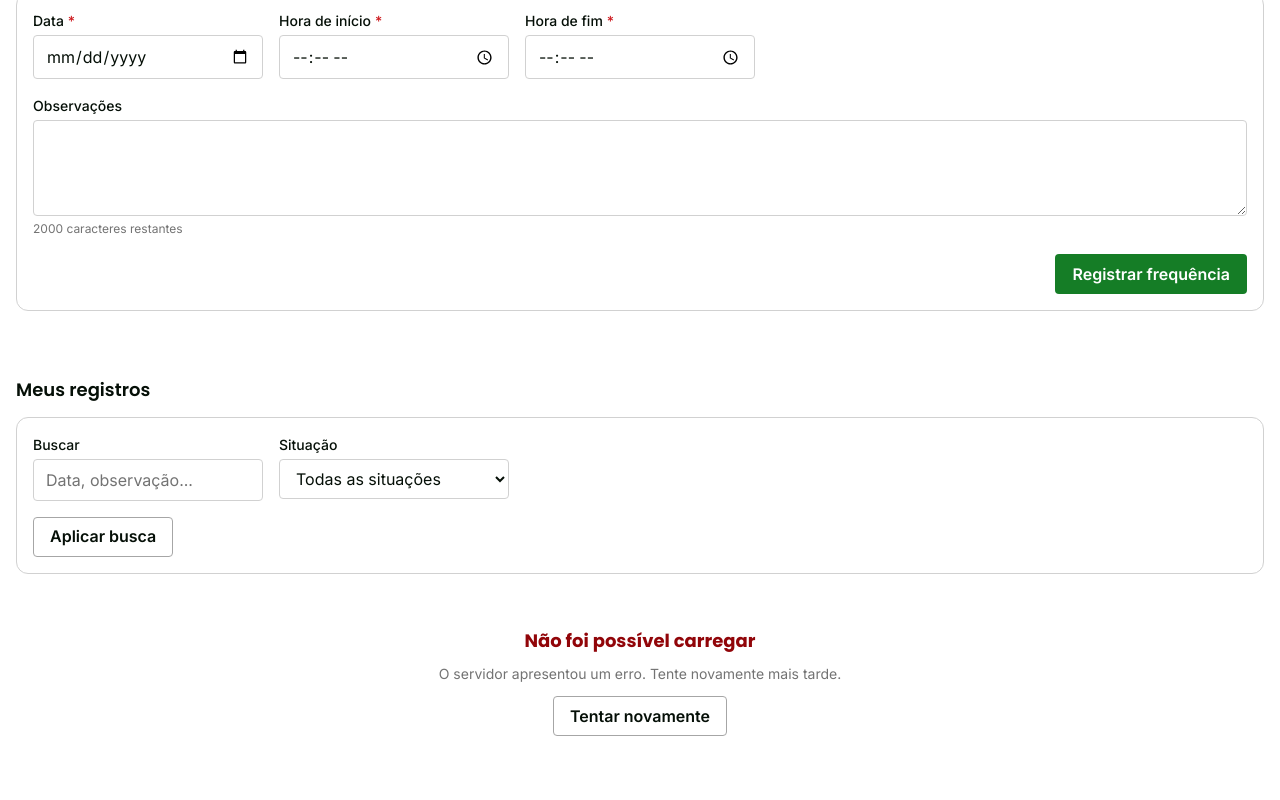
Test case: FolhaDePontos › permite tentar novamente após erro de rede
(page scrolled)
Click the button "Tentar novamente": (640, 716) left=553, top=696, right=727, bottom=736
(page scrolled)
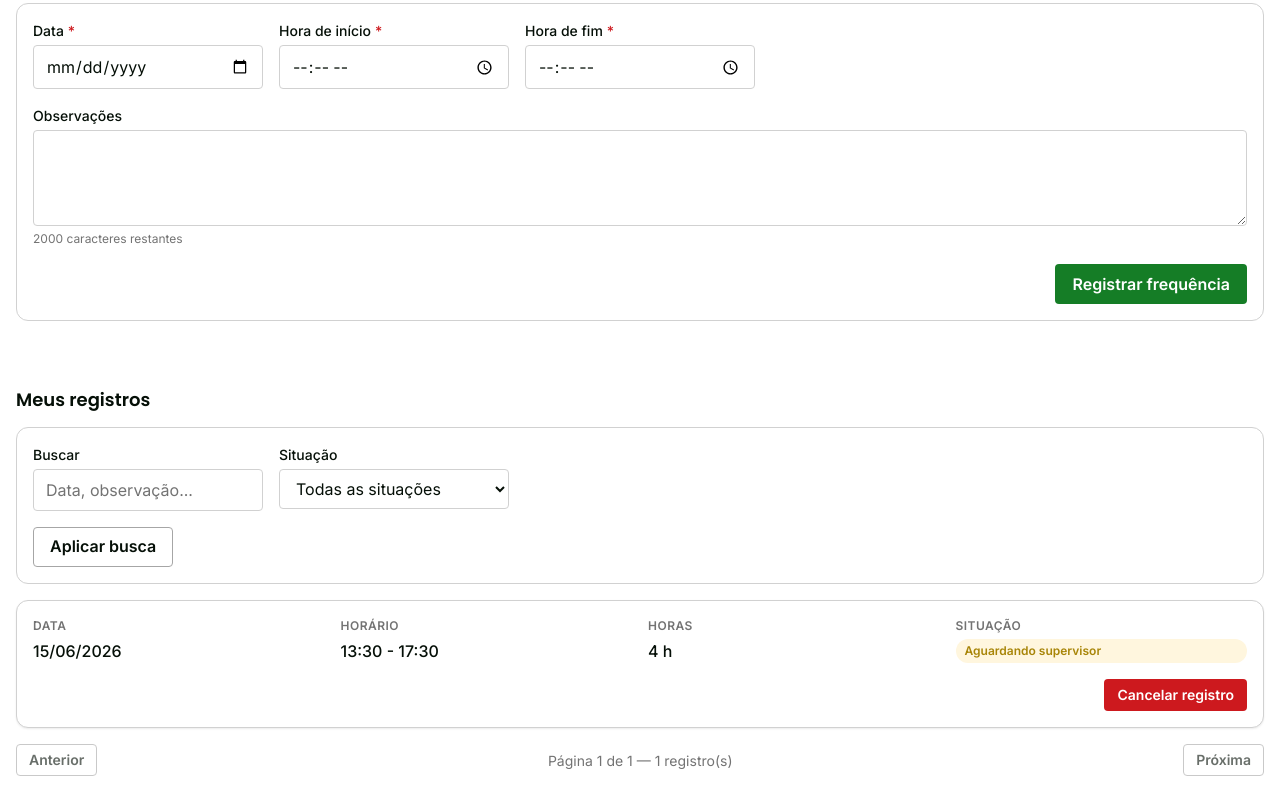
Expected: the text "15/06/2026" is shown, left=33, top=641, right=122, bottom=661
